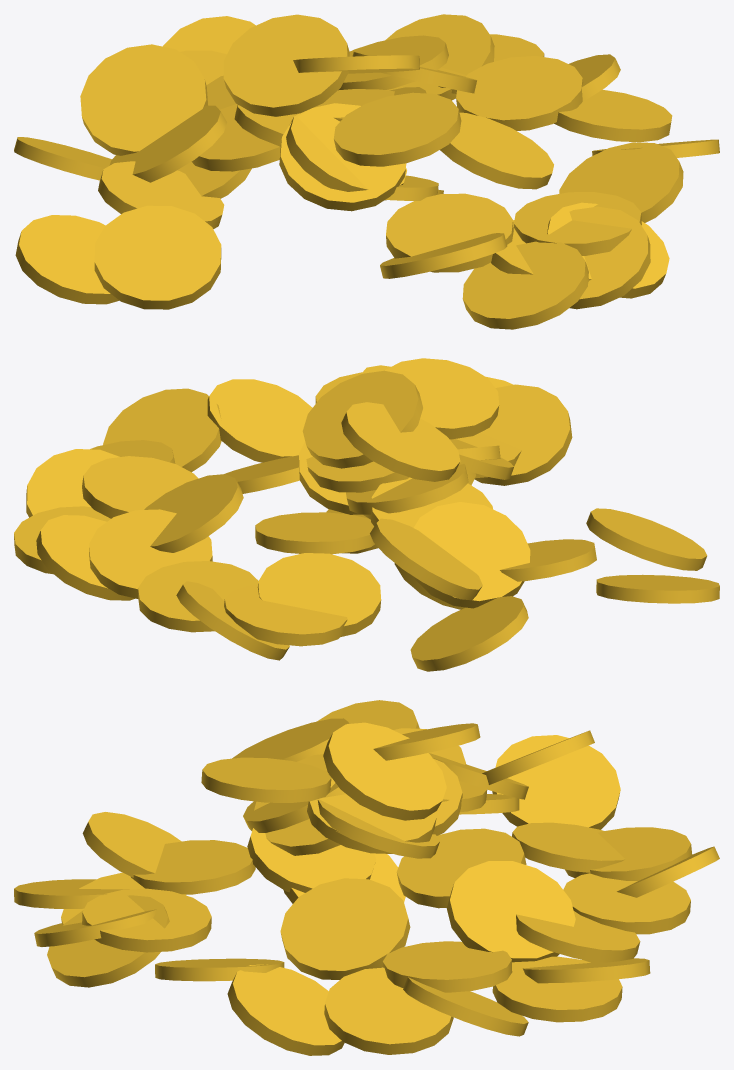
Rendered from coin_pile.glb.
3 views of the same model, one above another, from view 1: azimuth 30°, elevation 25°; view 2: azimuth 150°, elevation 25°; view 3: azimuth 270°, elevation 25° (orthographic). The views are drawn at different scales.
Visible parts, largest first — view 1: coin_pile; view 2: coin_pile; view 3: coin_pile.
Boxes of the visible parts, x1,y1,x2,y2 form: coin_pile: (14, 14, 719, 329); coin_pile: (14, 358, 719, 671); coin_pile: (14, 700, 719, 1055).
Size of the model in its own units: 1.42 by 0.3641 by 1.31.
